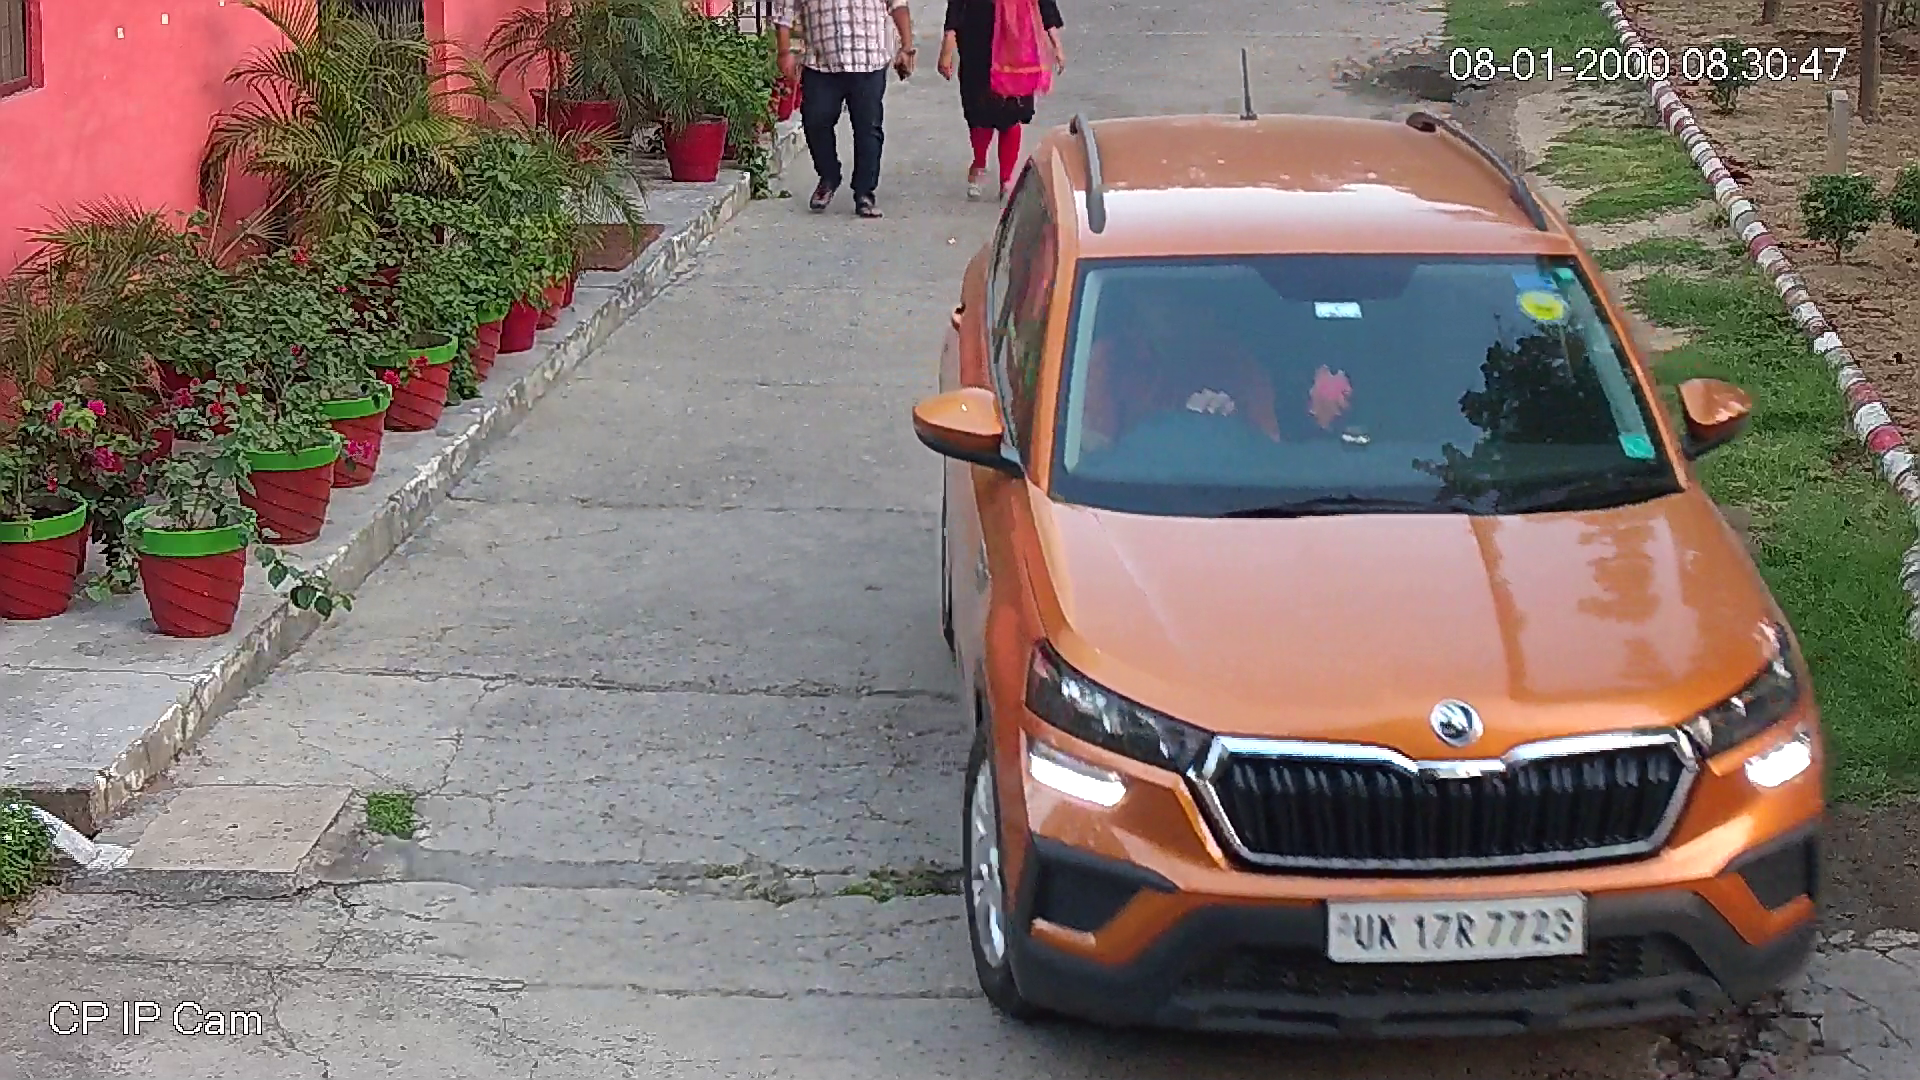plate: (1315, 883, 1599, 972)
